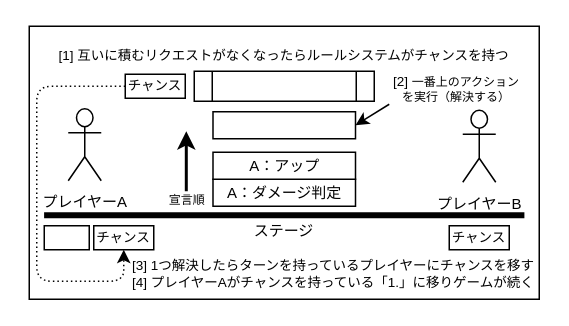
This 569x326 diagram has some shape labels left out. The centre of each missing label's shape, as x and y in pixels:
"B：ダウン" goes at point (284, 124).
"ターン" goes at point (66, 237).
"ルールシステム" goes at point (283, 85).
